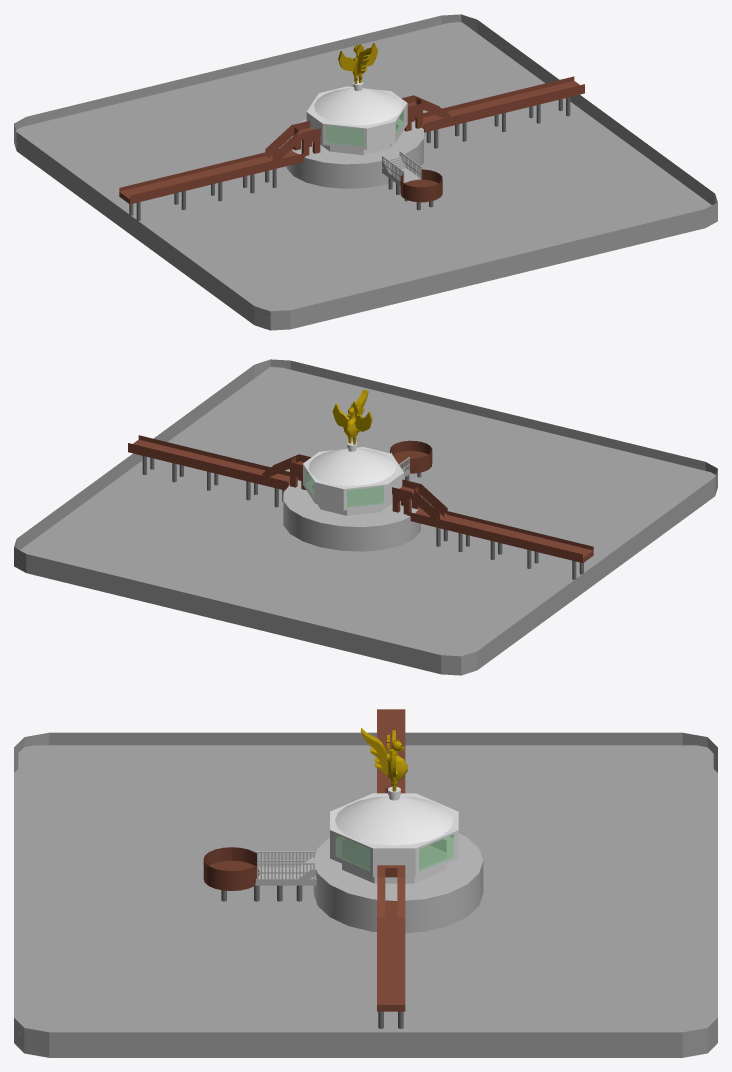
File: 수덕호 모델링 (1).fbx
3 renders of one model, top to bottom at view 1: azimuth 30°, elevation 25°; view 2: azimuth 150°, elevation 25°; view 3: azimuth 270°, elevation 25°, orthographic. The views are drawn at different scales.
Parts seen in each view (by area): view 1: pPlane2, pCube27, pCube46, pCylinder13, pCube10, pCone5, pCylinder65, pCylinder56; view 2: pPlane2, pCube27, pCube46, pCylinder13, pCube10, pCone5, pCylinder65, pCylinder56; view 3: pPlane2, pCube27, pCylinder13, pCube46, pCube10, pCone5, pCylinder56, pCube45, pCylinder65, pCube71.
Part boxes in pixels (bbox=[...]): pPlane2: bbox=[16, 22, 711, 318]; pCube27: bbox=[14, 14, 717, 330]; pCube46: bbox=[119, 76, 584, 204]; pCylinder13: bbox=[286, 119, 423, 188]; pCube10: bbox=[306, 86, 407, 155]; pCone5: bbox=[314, 81, 401, 125]; pCylinder65: bbox=[129, 97, 570, 221]; pCylinder56: bbox=[400, 169, 442, 202]; pPlane2: bbox=[20, 367, 717, 656]; pCube27: bbox=[14, 359, 717, 675]; pCube46: bbox=[128, 435, 593, 562]; pCylinder13: bbox=[283, 480, 420, 551]; pCube10: bbox=[303, 447, 403, 515]; pCone5: bbox=[308, 441, 396, 485]; pCylinder65: bbox=[142, 456, 583, 579]; pCylinder56: bbox=[390, 440, 432, 473]; pPlane2: bbox=[18, 745, 713, 1034]; pCube27: bbox=[14, 732, 717, 1057]; pCylinder13: bbox=[313, 833, 483, 933]; pCube46: bbox=[377, 709, 405, 1011]; pCube10: bbox=[330, 793, 458, 883]; pCone5: bbox=[335, 786, 453, 845]; pCylinder56: bbox=[203, 847, 259, 890]; pCube45: bbox=[255, 867, 316, 885]; pCylinder65: bbox=[221, 885, 403, 1028]; pCube71: bbox=[257, 864, 314, 880].
Size of the model in its own units: 25.17 by 7.03 by 24.92.
